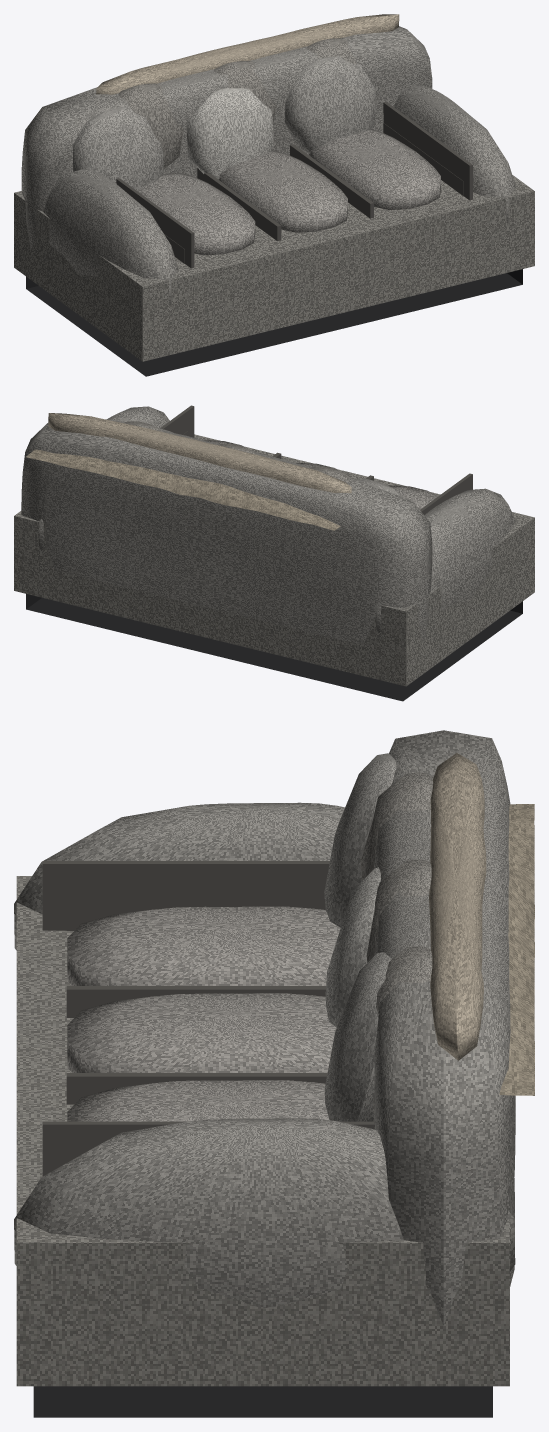
3 views of the same model, one above another, from view 1: azimuth 30°, elevation 25°; view 2: azimuth 150°, elevation 25°; view 3: azimuth 270°, elevation 25° (orthographic). The views are drawn at different scales.
Parts seen in each view (by area): view 1: root; view 2: root; view 3: root.
Part boxes in pixels (left/top/right/bottom): root: left=14, top=14, right=534, bottom=376; root: left=14, top=405, right=534, bottom=701; root: left=14, top=730, right=534, bottom=1417.
Bounding box in the file's own units: 1.9 × 0.9124 × 1.12.
10 materials, 8 textured.
